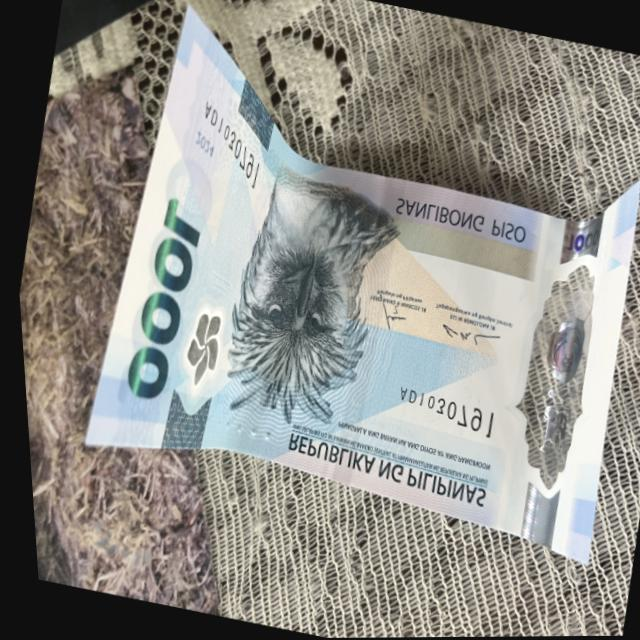clear_window: (476, 195, 616, 558)
eagle: (207, 161, 389, 437)
sampaguita: (164, 253, 231, 391)
security_thread: (321, 176, 404, 489)
serial_number: (376, 373, 497, 447), (192, 91, 262, 197)
